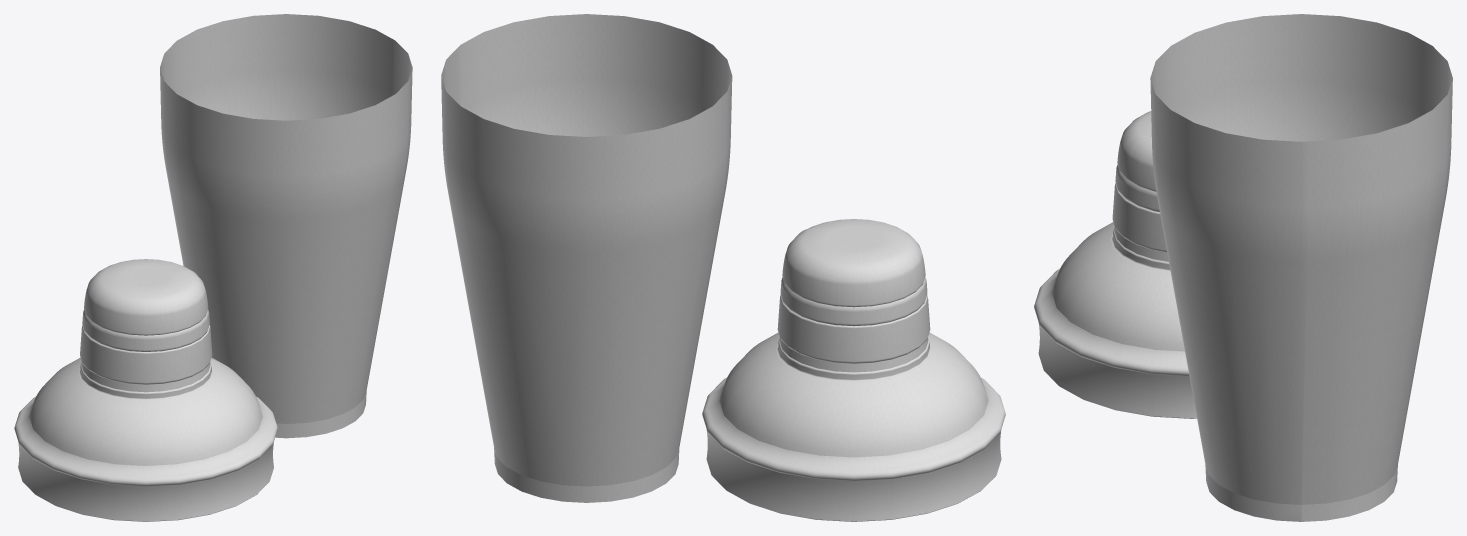
Rendered from shaker.fbx.
3 views of the same model, side by side, from view 1: azimuth 30°, elevation 25°; view 2: azimuth 150°, elevation 25°; view 3: azimuth 270°, elevation 25° (orthographic). The views are drawn at different scales.
Visible parts, largest first — view 1: group_3, group_1, group_2; view 2: group_3, group_1, group_2; view 3: group_3, group_1, group_2.
Boxes of the visible parts, box(x1,y1,x2,y2) form: group_3: box(160, 14, 412, 438); group_1: box(14, 357, 277, 521); group_2: box(80, 259, 212, 384); group_3: box(441, 14, 732, 502); group_1: box(702, 332, 1005, 521); group_2: box(777, 219, 930, 363); group_3: box(1150, 14, 1452, 521); group_1: box(1034, 222, 1196, 418); group_2: box(1112, 111, 1167, 252).
Bounding box in the file's own units: 16.09 × 12.67 × 11.91.
